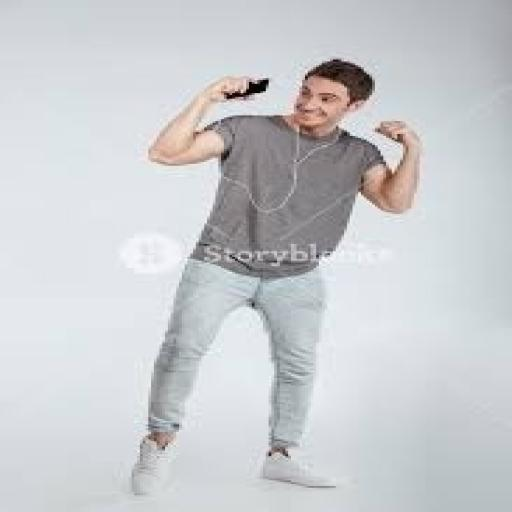listening_to_music: (126, 56, 425, 499)
